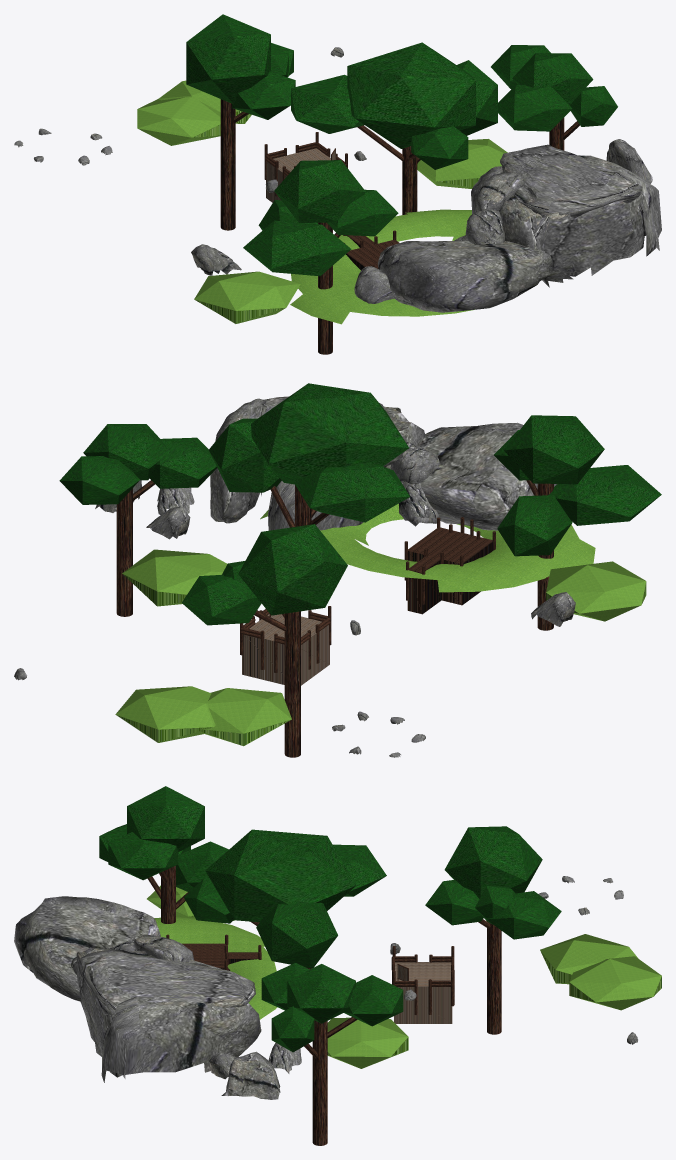
The model's file is grass.obj.
3 renders of one model, top to bottom at view 1: azimuth 30°, elevation 25°; view 2: azimuth 150°, elevation 25°; view 3: azimuth 270°, elevation 25°, orthographic. The views are drawn at different scales.
Parts seen in each view (by area): view 1: Rock12_Rock, Icosahedron13, Rock21_Rock, Torus, Rock18, Icosahedron201, Icosahedron4, Icosahedron1, Icosahedron5, Icosahedron6, Icosahedron16, Icosahedron22 (+22 smaller); view 2: Icosahedron13, Rock12_Rock, Torus, Icosahedron201, Icosahedron1, Icosahedron16, Icosahedron4, Icosahedron5, Icosahedron7, Icosahedron6, Icosahedron, Box57 (+18 smaller); view 3: Rock20, Icosahedron13, Rock12_Rock, Rock21_Rock, Icosahedron201, Icosahedron14, Icosahedron1, Icosahedron7, Torus, Icosahedron, Icosahedron24, Box57 (+20 smaller).
Boxes of the visible parts, box(x1,y1,x2,y2) form: Rock12_Rock: box(377, 240, 553, 312); Icosahedron13: box(347, 42, 475, 148); Rock21_Rock: box(500, 144, 642, 217); Torus: box(290, 209, 474, 324); Rock18: box(533, 187, 644, 287); Icosahedron201: box(186, 14, 270, 104); Icosahedron4: box(243, 220, 351, 276); Icosahedron1: box(274, 160, 365, 222); Icosahedron5: box(194, 271, 300, 323); Icosahedron6: box(137, 97, 220, 145); Icosahedron16: box(291, 74, 364, 133); Icosahedron22: box(498, 85, 572, 131); Icosahedron13: box(251, 383, 408, 484); Rock12_Rock: box(398, 422, 556, 530); Torus: box(260, 504, 595, 592); Icosahedron201: box(238, 524, 347, 615); Icosahedron1: box(504, 415, 604, 484); Icosahedron16: box(293, 462, 410, 522); Icosahedron4: box(548, 465, 661, 525); Icosahedron5: box(546, 561, 646, 621); Icosahedron7: box(115, 686, 215, 742); Icosahedron6: box(200, 688, 291, 746); Icosahedron: box(122, 549, 227, 606); Box57: box(242, 614, 329, 685); Rock20: box(101, 996, 261, 1082); Icosahedron13: box(205, 829, 356, 922); Rock12_Rock: box(14, 896, 160, 1001); Rock21_Rock: box(80, 949, 255, 1014); Icosahedron201: box(444, 826, 542, 898); Icosahedron14: box(256, 900, 337, 968); Icosahedron1: box(127, 786, 204, 852); Icosahedron7: box(569, 956, 661, 1010); Torus: box(154, 917, 277, 1019); Icosahedron: box(327, 1017, 408, 1068); Icosahedron24: box(287, 964, 355, 1023); Box57: box(394, 962, 452, 1023).
Bounding box in the file's own units: 36.22 × 16.86 × 43.69.
Materials: 5 (5 with a texture image).
